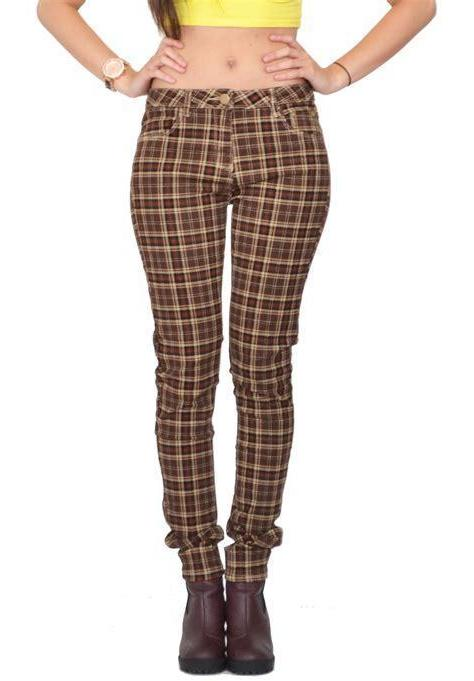trousers: (127, 78, 334, 582)
